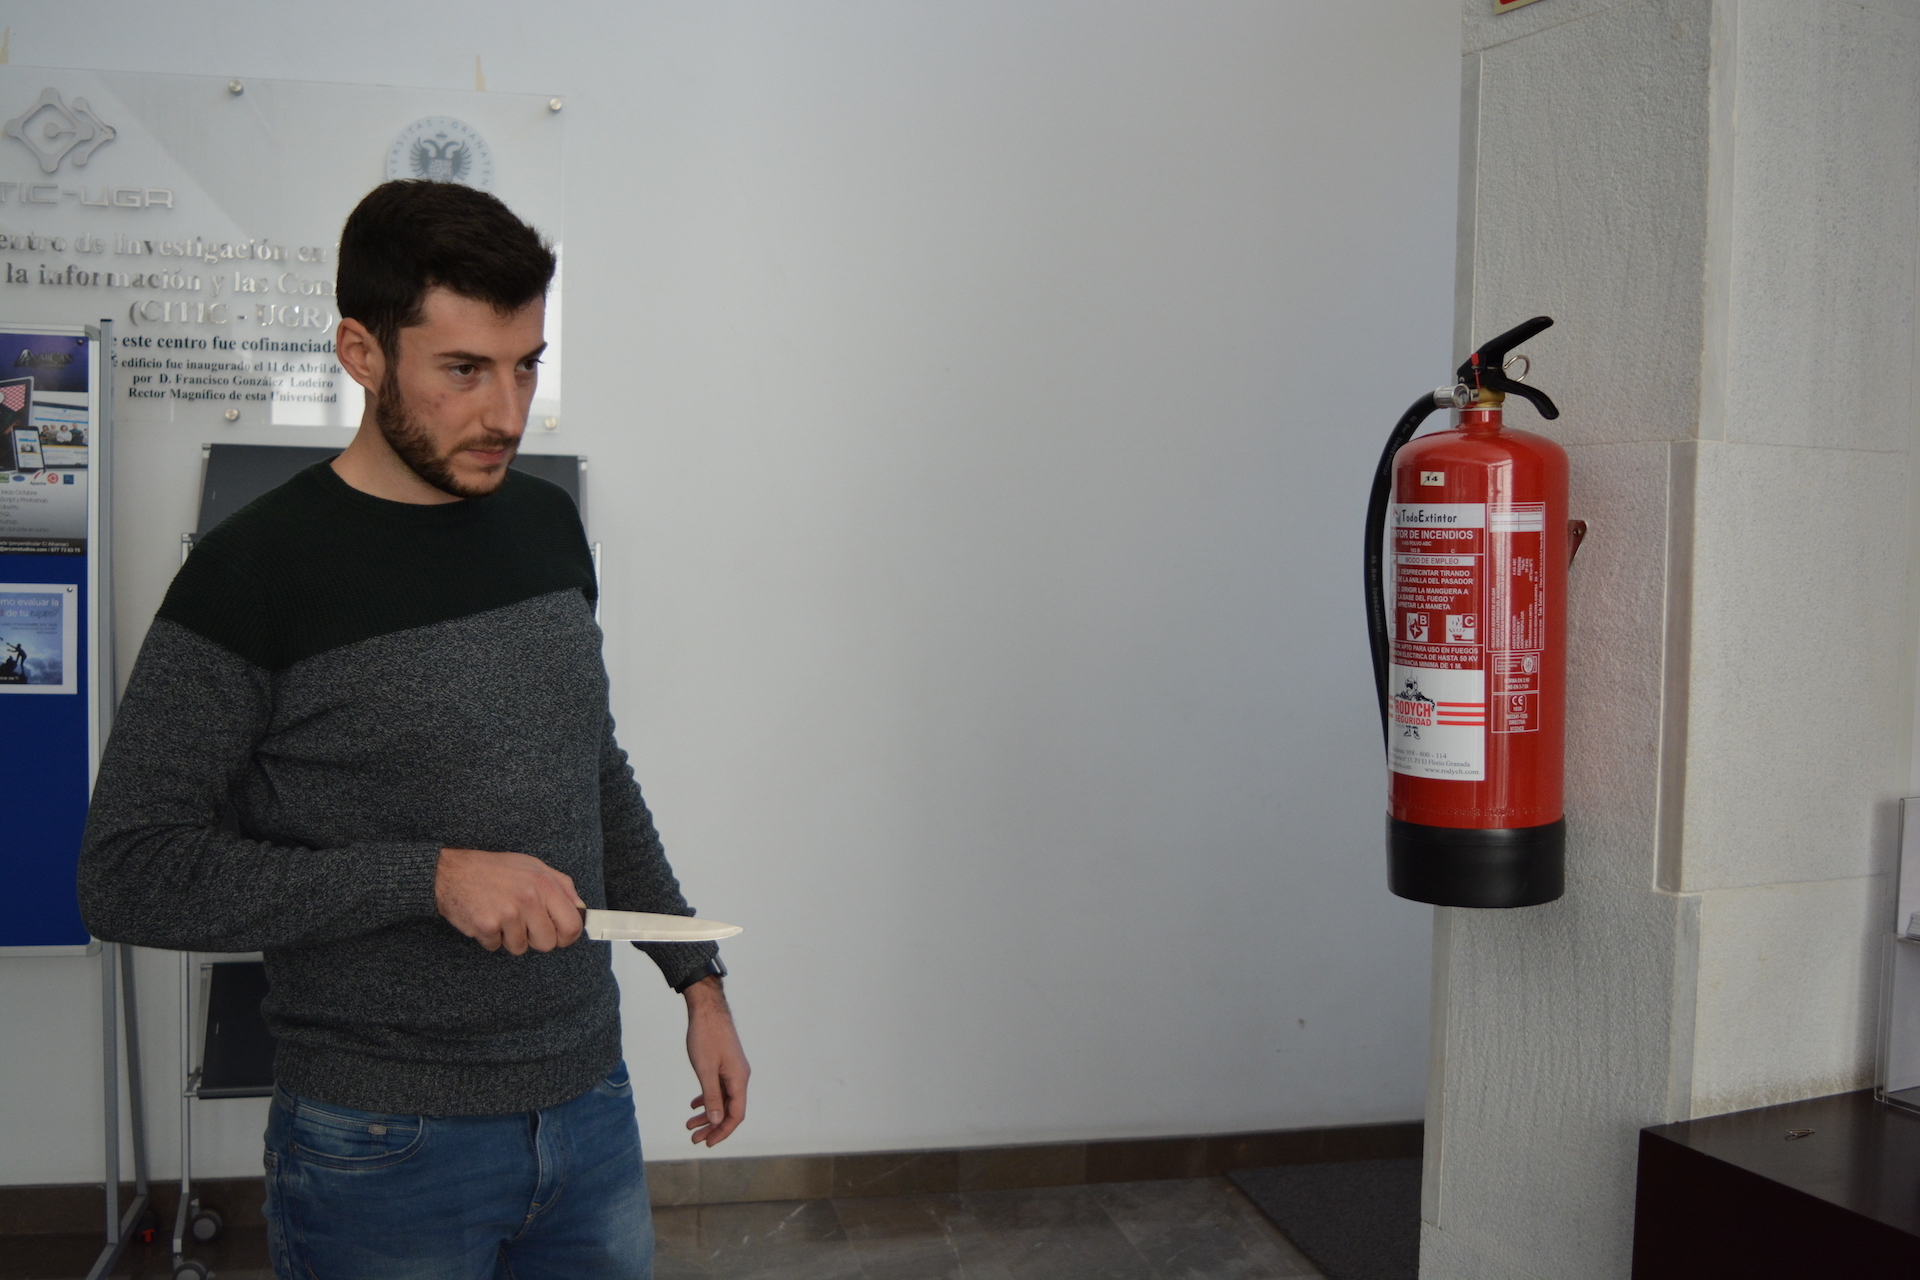knife: (546, 894, 757, 951)
